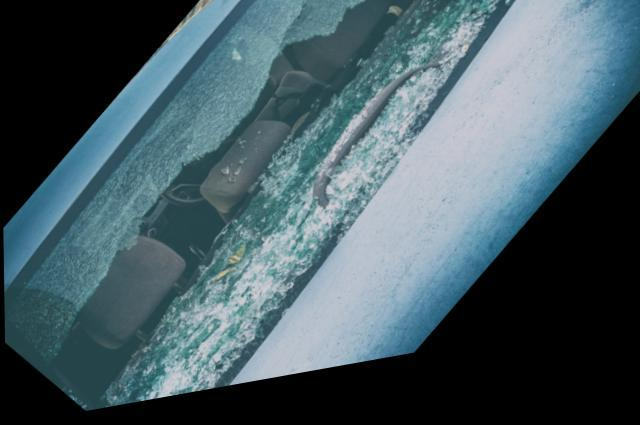glass shatter: (3, 0, 528, 414)
